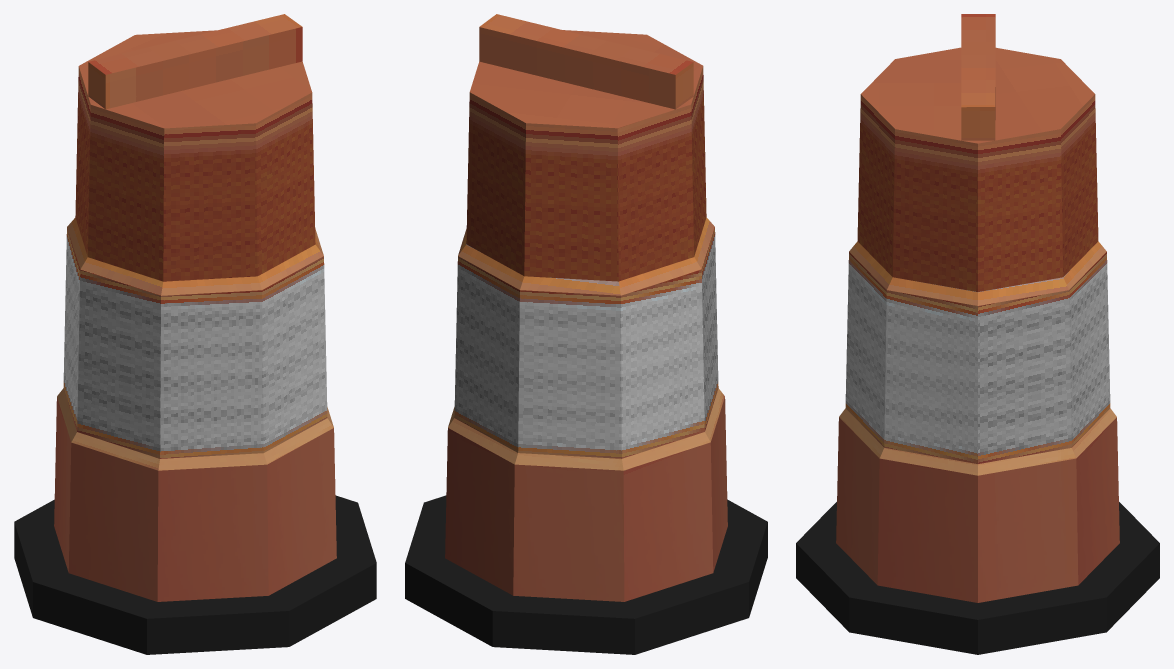
The model's file is constructionbarrel.glb.
3 views of the same model, side by side, from view 1: azimuth 30°, elevation 25°; view 2: azimuth 150°, elevation 25°; view 3: azimuth 270°, elevation 25° (orthographic). The views are drawn at different scales.
Visible parts, largest first — view 1: Cylinder; view 2: Cylinder; view 3: Cylinder.
Part boxes in pixels (left/top/right/bottom): Cylinder: left=14, top=14, right=376, bottom=654; Cylinder: left=405, top=14, right=767, bottom=654; Cylinder: left=796, top=14, right=1159, bottom=654.
Bounding box in the file's own units: 2 × 3.15 × 2.
1 material, 1 textured.
